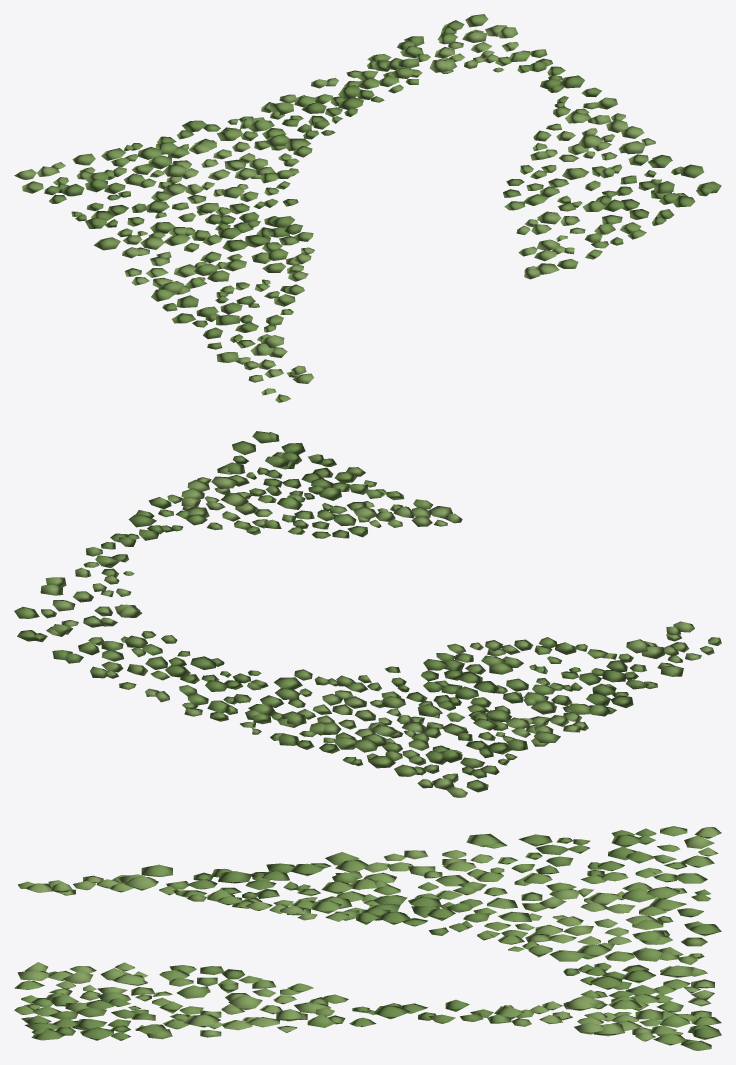
Rendered from canopy-1-1--4.glb.
3 renders of one model, top to bottom at view 1: azimuth 30°, elevation 25°; view 2: azimuth 150°, elevation 25°; view 3: azimuth 270°, elevation 25°, orthographic. The views are drawn at different scales.
Size of the model in its own units: 520 by 128 by 512.
1 material, 1 textured.
